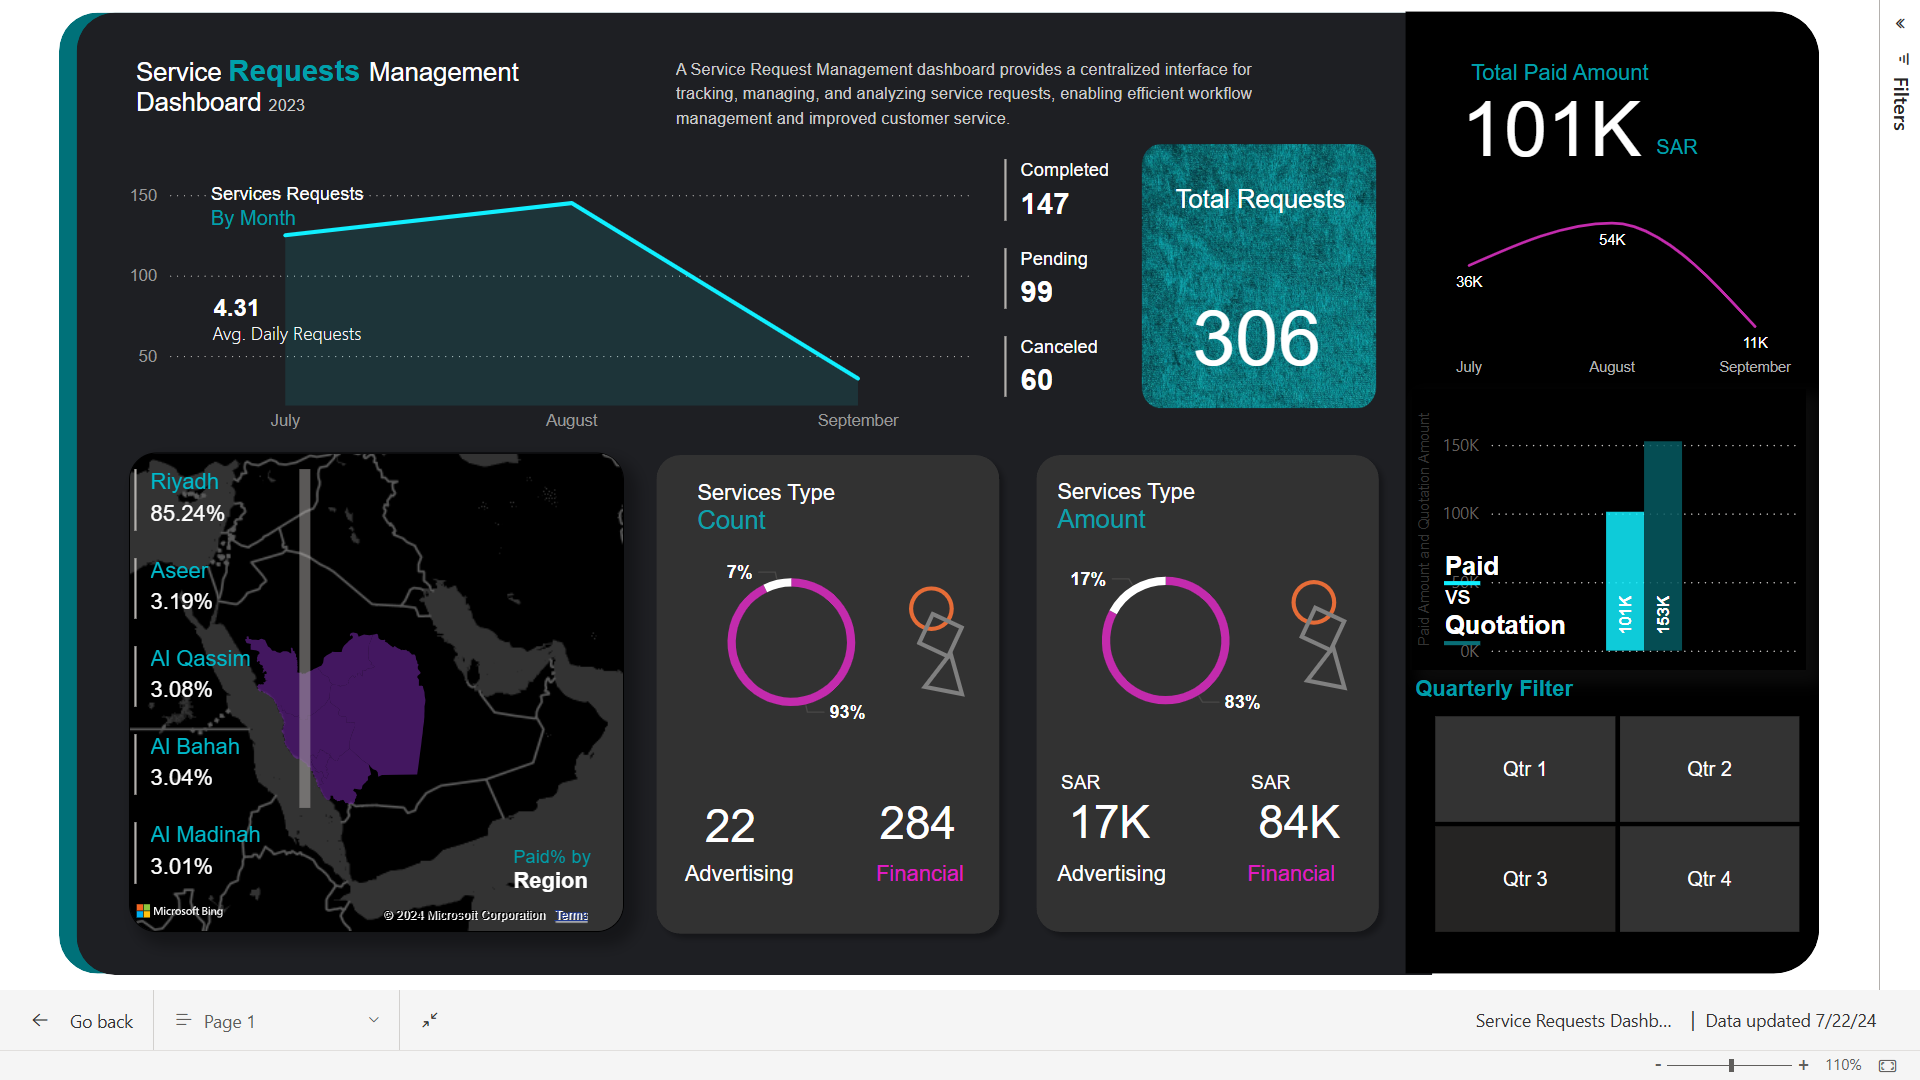

The dashboard page shown, as its layout file describes it:
{"tool":"powerbi","page":{"name":"Page 1","canvas":[1280,720],"ordinal":0},"visuals":[{"type":"shape","box":[0,9,999,699],"z":0},{"type":"shape","box":[702.3,322.1,267.1,365],"z":0,"group":"g1"},{"type":"shape","box":[896.5,422.3,32.6,32.6],"z":0,"group":"g2"},{"type":"shape","box":[618.4,426.7,32.6,32.6],"z":0,"group":"g3"},{"type":"shape","box":[12.8,9.3,986,700],"z":1000},{"type":"donutChart","fields":{"Category":["Service_Type.Service Type"],"Y":["Sum(Request_Status.Paid Amount)"]},"box":[720.6,393.9,168.3,144.8],"z":1000,"group":"g1"},{"type":"shape","box":[902.3,440.9,34.9,34.9],"z":1000,"group":"g2"},{"type":"shape","box":[624.2,445.3,34.9,34.9],"z":1000,"group":"g3"},{"type":"shape","box":[978.8,8.5,301.2,700],"z":2000},{"type":"textbox","box":[721.1,344,158.1,55.7],"z":2000,"group":"g1"},{"type":"shape","box":[903.5,467.6,34.9,34.9],"z":2000,"group":"g2"},{"type":"shape","box":[625.4,472,34.9,34.9],"z":2000,"group":"g3"},{"type":"textbox","box":[51.2,34.9,308.1,57],"z":3000},{"type":"card","fields":{"Values":["Service_Type.Advertising Paid Amount"]},"box":[691.9,554.7,144.2,84.7],"z":3000,"group":"g1"},{"type":"lineChart","fields":{"Category":["Locations.Date.Variation.Date Hierarchy.Month"],"Y":["CountNonNull(Locations.Request Number)"]},"box":[45.2,116.5,624.1,205.8],"z":4000},{"type":"card","fields":{"Values":["Service_Type.Financial Paid Amount"]},"box":[830.5,554.7,144.2,84.7],"z":4000,"group":"g1"},{"type":"textbox","box":[105.8,126.7,184.9,50],"z":5000},{"type":"textbox","box":[721,622.2,102.3,47.6],"z":5000,"group":"g1"},{"type":"textbox","box":[859.3,621.9,102.3,47.6],"z":6000,"group":"g1"},{"type":"textbox","box":[448.8,622.1,102.3,47.7],"z":6000},{"type":"card","fields":{"Values":["Locations.Avg. of Daily Requests"]},"box":[70,177,119,96],"z":7000},{"type":"textbox","box":[723.3,554.7,102.3,47.6],"z":7000,"group":"g1"},{"type":"textbox","box":[106.3,228.4,183.2,45.2],"z":8000},{"type":"textbox","box":[861.7,554.7,102.3,47.6],"z":8000,"group":"g1"},{"type":"multiRowCard","fields":{"Values":["Request_Status.Request Number","Request_Status.Request Status"]},"box":[683,111,132,208],"z":9000},{"type":"image","box":[782.6,100,180.2,202],"z":10000},{"type":"textbox","box":[781.4,130.2,183.7,37.2],"z":11000},{"type":"card","fields":{"Values":["CountNonNull(Request_Status.Request Number)"]},"box":[759.3,179.1,224.4,125.6],"z":12000},{"type":"textbox","box":[998.8,39.5,184.9,50],"z":13000},{"type":"card","fields":{"Values":["Sum(Request_Status.Paid Amount)"]},"box":[939,50,293,80],"z":14000},{"type":"textbox","box":[1120.9,93,111.6,36],"z":15000},{"type":"lineChart","fields":{"Category":["Locations.Date.Variation.Date Hierarchy.Month"],"Y":["Sum(Request_Status.Paid Amount)"]},"box":[979.1,138.4,301.2,144.2],"z":16000},{"type":"clusteredColumnChart","fields":{"Y":["Sum(Request_Status.Paid Amount)","Sum(Request_Status.Quotation Amount)"]},"box":[983.7,282.6,287.2,204.7],"z":17000},{"type":"textbox","box":[1002.3,396.5,167.4,79.1],"z":18000},{"type":"shape","box":[1007,414,26.7,20.9],"z":19000},{"type":"shape","box":[1007,457,26.7,20.9],"z":20000},{"type":"filledMap","fields":{"Category":["Locations.Province"]},"box":[50.6,329,360,349],"z":21000},{"type":"textbox","box":[325.7,608.4,85,47.9],"z":22000},{"type":"shape","box":[425.6,322.1,267.4,366.3],"z":23000},{"type":"group","id":"g1","title":"Group 1","box":[691.9,322.1,282.8,365],"z":24000},{"type":"card","fields":{"Values":["Service_Type.Financial Count"]},"box":[552.5,555.8,144.2,84.9],"z":25000},{"type":"textbox","box":[459.3,344.2,158.1,52.3],"z":26000},{"type":"card","fields":{"Values":["Service_Type.Advertising Count"]},"box":[416.3,557,144.2,84.9],"z":27000},{"type":"donutChart","fields":{"Category":["Service_Type.Service Type"],"Y":["CountNonNull(Service_Type.Request Number)"]},"box":[448.8,394.2,167.4,145.3],"z":28000},{"type":"textbox","box":[589.5,622.1,102.3,47.7],"z":29000},{"type":"textbox","box":[450,622.1,102.3,47.7],"z":30000},{"type":"advancedSlicerVisual","fields":{"Values":["Locations.Date.Variation.Date Hierarchy.Quarter"]},"box":[1001.2,501.2,265.1,197.7],"z":31000},{"type":"multiRowCard","fields":{"Values":["Locations.Province","Sum(Service_Type.Paid Amount)"]},"box":[50.3,336.5,137.7,319.8],"z":32000},{"type":"textbox","box":[986,492,187.2,39.5],"z":33000},{"type":"group","id":"g2","title":"Group 2","box":[896.5,422.3,41.9,80.2],"z":34000},{"type":"group","id":"g3","title":"Group 2","box":[618.4,426.7,41.9,80.2],"z":35000},{"type":"textbox","box":[431.9,35.1,474.9,79.1],"z":36000}]}

Visuals, with their boxes on the page's 1280x720 design canvas (x1, y1, x2, y2). These are canvas units, not pixel positions in the 1920x1080 screenshot, which may show the page scaled, cropped or inside an application window:
shape: [x1=0, y1=9, x2=999, y2=708]
shape: [x1=702, y1=322, x2=969, y2=687]
shape: [x1=896, y1=422, x2=929, y2=455]
shape: [x1=618, y1=427, x2=651, y2=459]
shape: [x1=13, y1=9, x2=999, y2=709]
donutChart - Service_Type.Service Type x Sum(Request_Status.Paid Amount): [x1=721, y1=394, x2=889, y2=539]
shape: [x1=902, y1=441, x2=937, y2=476]
shape: [x1=624, y1=445, x2=659, y2=480]
shape: [x1=979, y1=8, x2=1280, y2=708]
textbox: [x1=721, y1=344, x2=879, y2=400]
shape: [x1=904, y1=468, x2=938, y2=502]
shape: [x1=625, y1=472, x2=660, y2=507]
textbox: [x1=51, y1=35, x2=359, y2=92]
card - Service_Type.Advertising Paid Amount: [x1=692, y1=555, x2=836, y2=639]
lineChart - Locations.Date.Variation.Date Hierarchy.Month x CountNonNull(Locations.Request Number): [x1=45, y1=116, x2=669, y2=322]
card - Service_Type.Financial Paid Amount: [x1=830, y1=555, x2=975, y2=639]
textbox: [x1=106, y1=127, x2=291, y2=177]
textbox: [x1=721, y1=622, x2=823, y2=670]
textbox: [x1=859, y1=622, x2=962, y2=670]
textbox: [x1=449, y1=622, x2=551, y2=670]
card - Locations.Avg. of Daily Requests: [x1=70, y1=177, x2=189, y2=273]
textbox: [x1=723, y1=555, x2=826, y2=602]
textbox: [x1=106, y1=228, x2=290, y2=274]
textbox: [x1=862, y1=555, x2=964, y2=602]
multiRowCard - Request_Status.Request Number x Request_Status.Request Status: [x1=683, y1=111, x2=815, y2=319]
image: [x1=783, y1=100, x2=963, y2=302]
textbox: [x1=781, y1=130, x2=965, y2=167]
card - CountNonNull(Request_Status.Request Number): [x1=759, y1=179, x2=984, y2=305]
textbox: [x1=999, y1=40, x2=1184, y2=90]
card - Sum(Request_Status.Paid Amount): [x1=939, y1=50, x2=1232, y2=130]
textbox: [x1=1121, y1=93, x2=1232, y2=129]
lineChart - Locations.Date.Variation.Date Hierarchy.Month x Sum(Request_Status.Paid Amount): [x1=979, y1=138, x2=1280, y2=283]
clusteredColumnChart - Sum(Request_Status.Paid Amount) x Sum(Request_Status.Quotation Amount): [x1=984, y1=283, x2=1271, y2=487]
textbox: [x1=1002, y1=396, x2=1170, y2=476]
shape: [x1=1007, y1=414, x2=1034, y2=435]
shape: [x1=1007, y1=457, x2=1034, y2=478]
filledMap - Locations.Province: [x1=51, y1=329, x2=411, y2=678]
textbox: [x1=326, y1=608, x2=411, y2=656]
shape: [x1=426, y1=322, x2=693, y2=688]
"Group 1" group: [x1=692, y1=322, x2=975, y2=687]
card - Service_Type.Financial Count: [x1=552, y1=556, x2=697, y2=641]
textbox: [x1=459, y1=344, x2=617, y2=396]
card - Service_Type.Advertising Count: [x1=416, y1=557, x2=560, y2=642]
donutChart - Service_Type.Service Type x CountNonNull(Service_Type.Request Number): [x1=449, y1=394, x2=616, y2=540]
textbox: [x1=590, y1=622, x2=692, y2=670]
textbox: [x1=450, y1=622, x2=552, y2=670]
advancedSlicerVisual - Locations.Date.Variation.Date Hierarchy.Quarter: [x1=1001, y1=501, x2=1266, y2=699]
multiRowCard - Locations.Province x Sum(Service_Type.Paid Amount): [x1=50, y1=336, x2=188, y2=656]
textbox: [x1=986, y1=492, x2=1173, y2=532]
"Group 2" group: [x1=896, y1=422, x2=938, y2=502]
"Group 2" group: [x1=618, y1=427, x2=660, y2=507]
textbox: [x1=432, y1=35, x2=907, y2=114]
